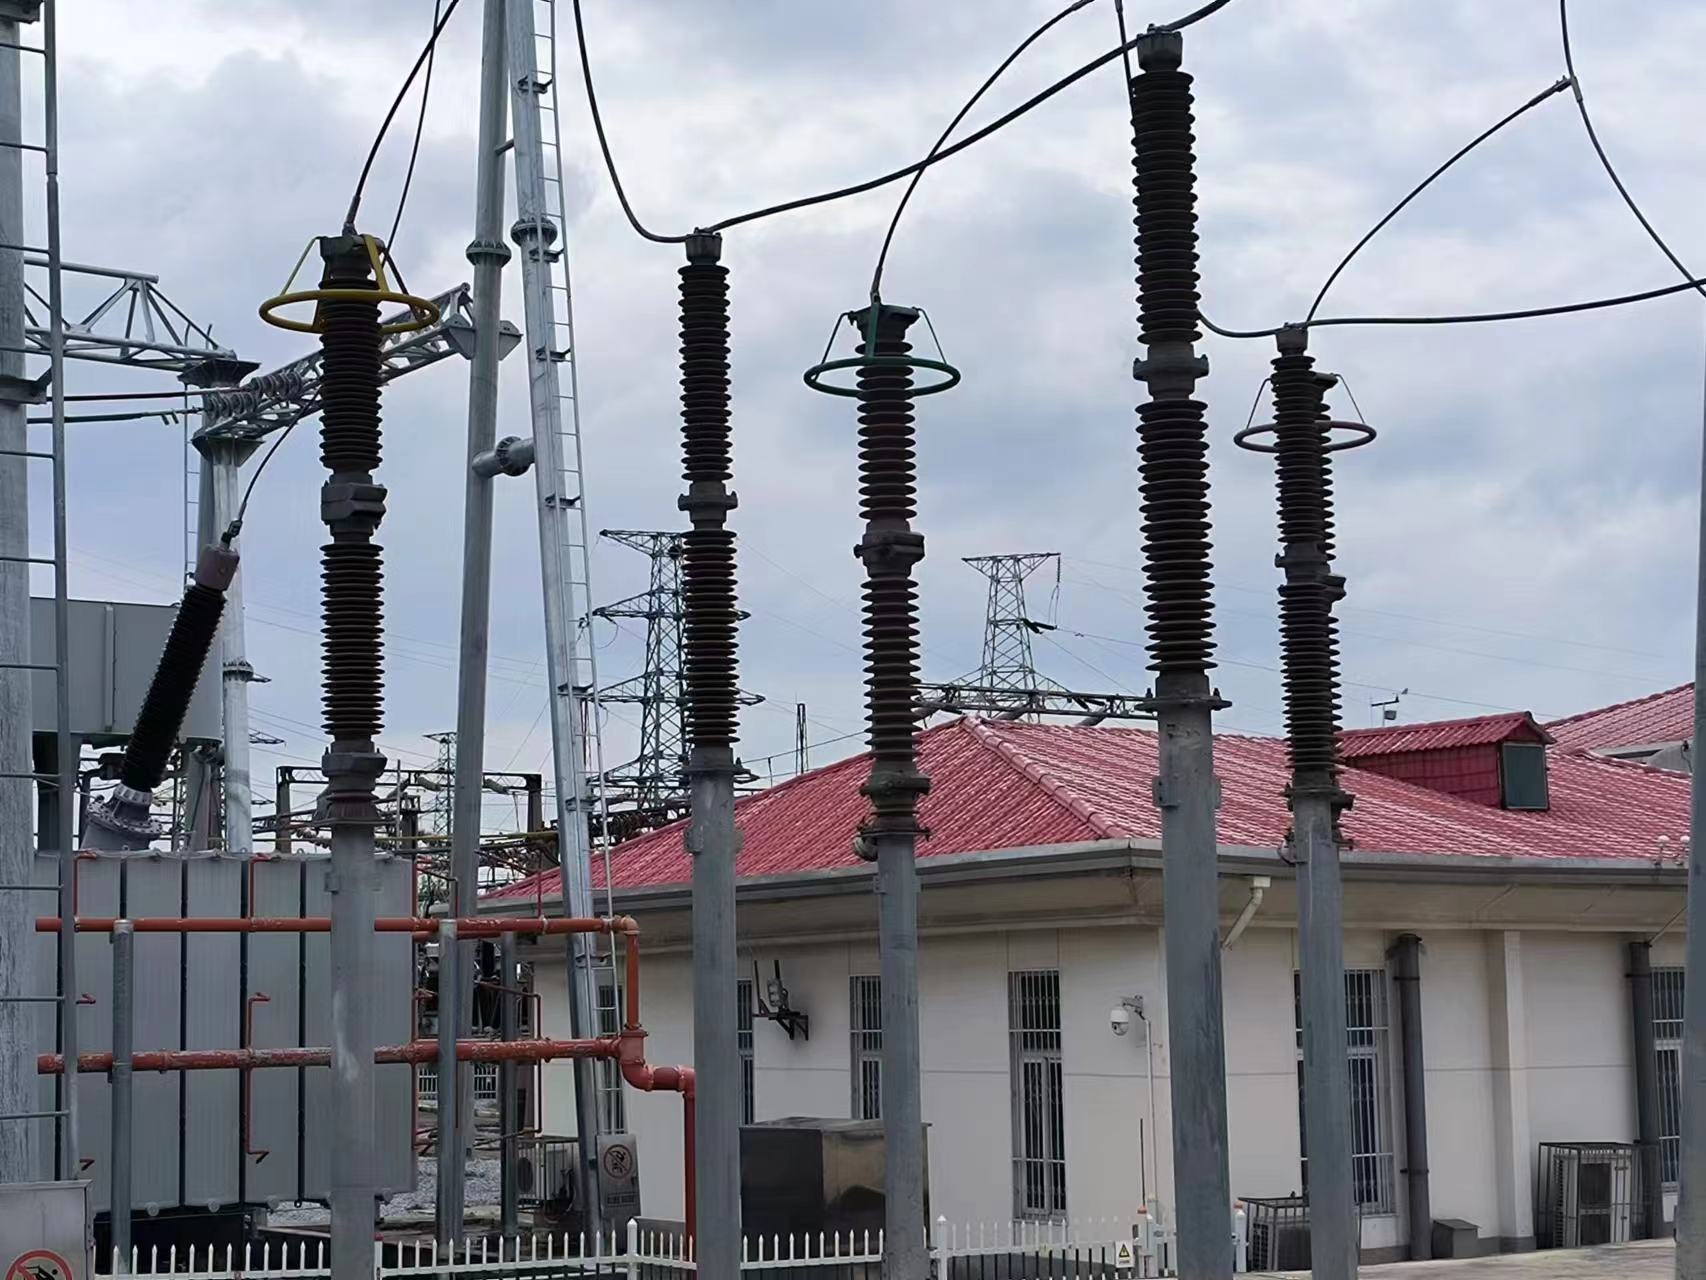Arrester: (255, 235, 446, 741), (801, 298, 967, 797)
